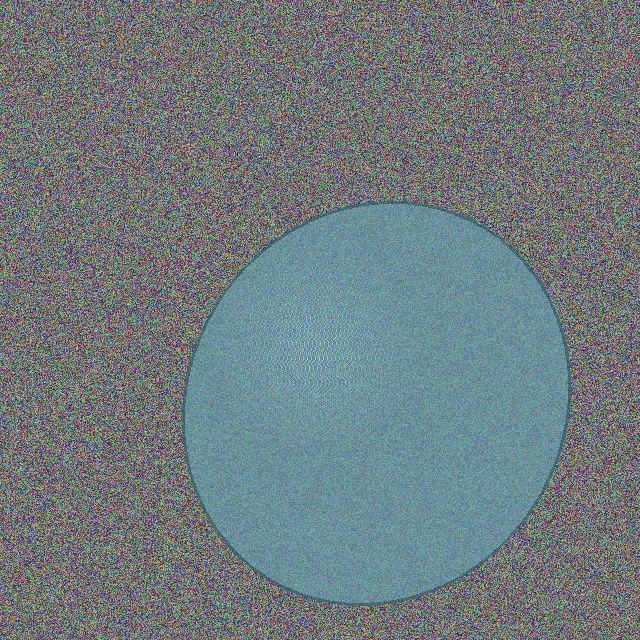lens: (183, 202, 569, 604)
